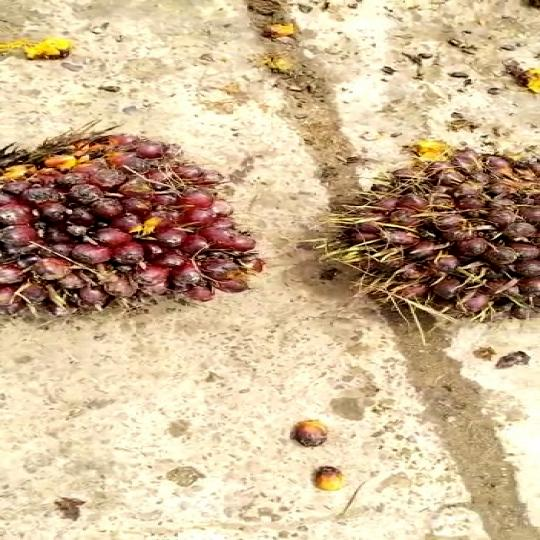kurang masak: (0, 127, 277, 349), (332, 146, 540, 326)
